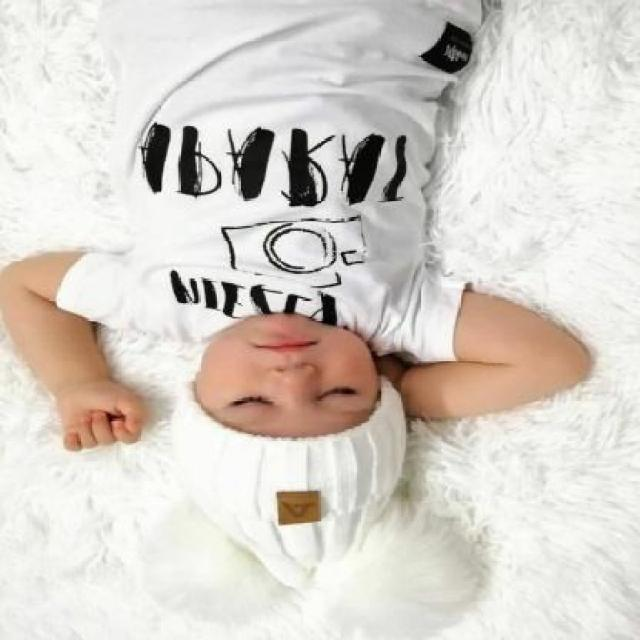baby: (0, 3, 594, 562)
